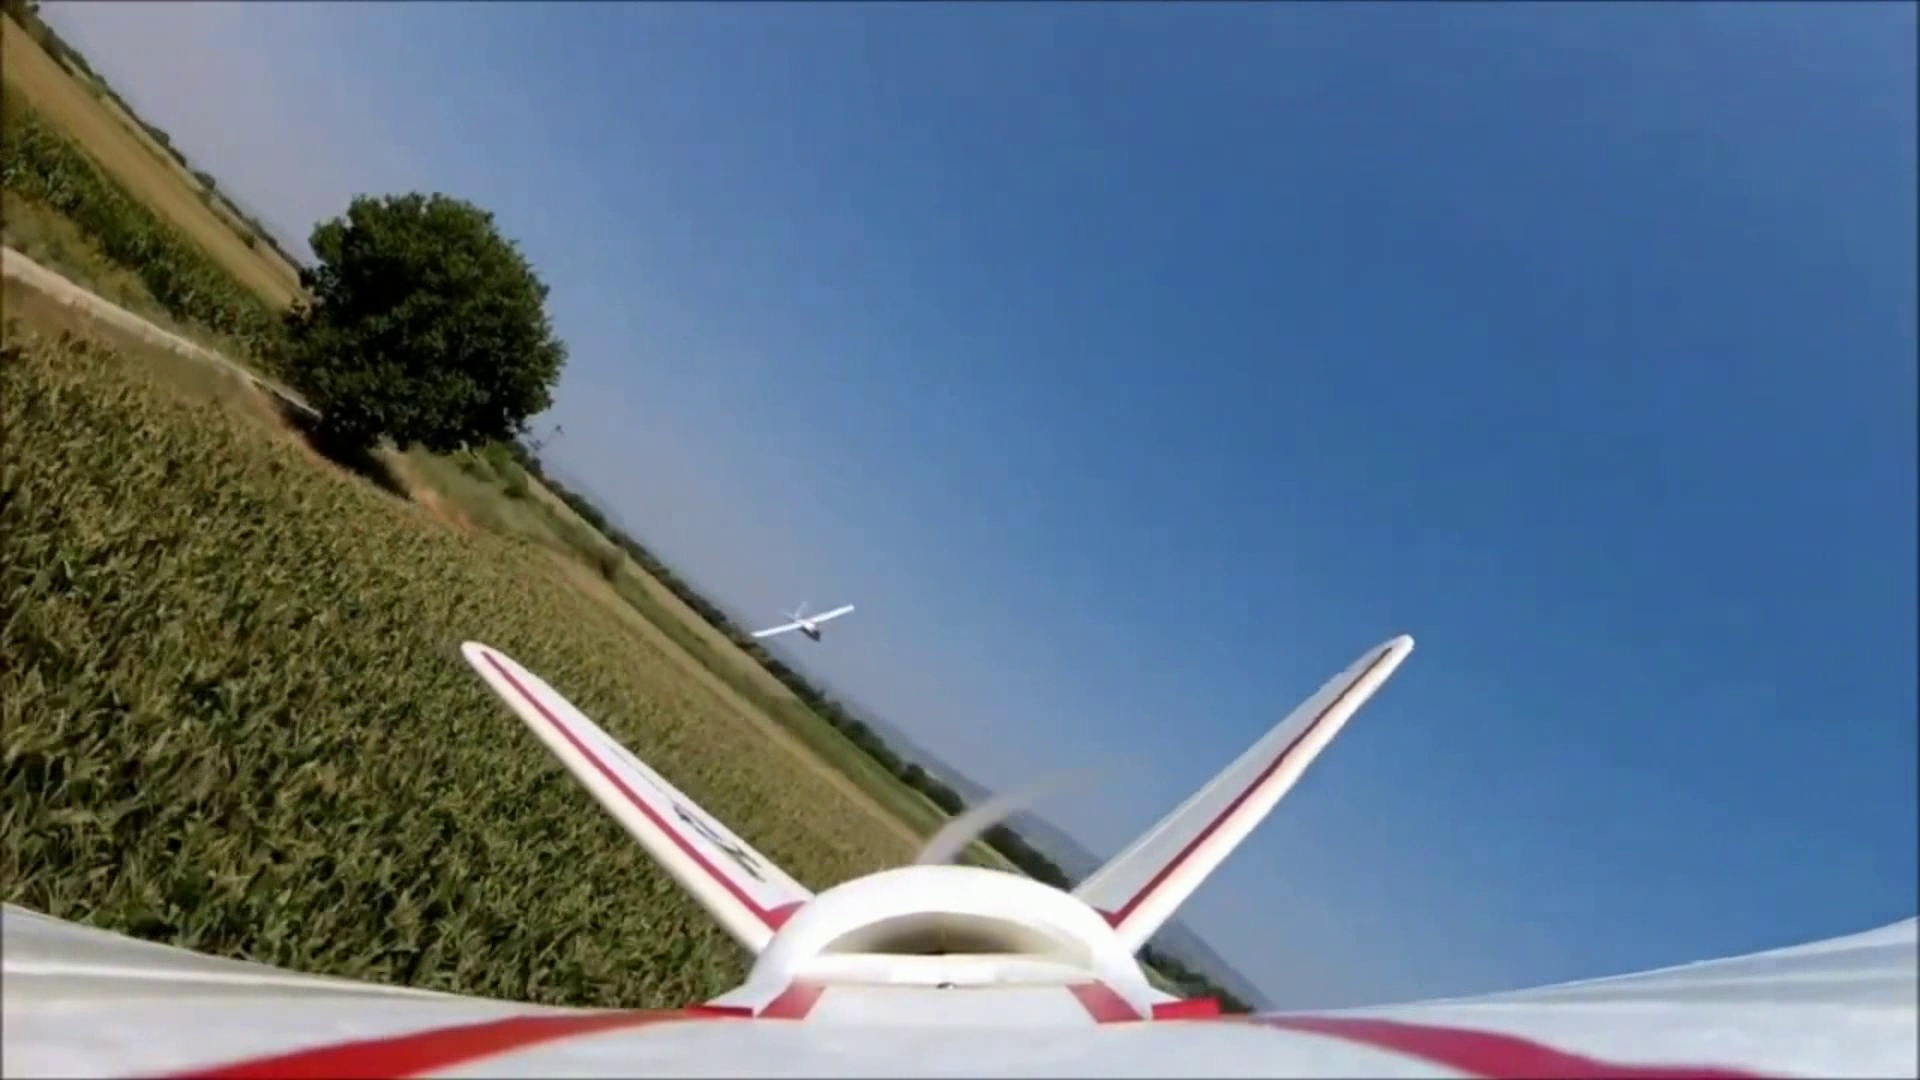airplane: (4, 603, 1899, 1069)
